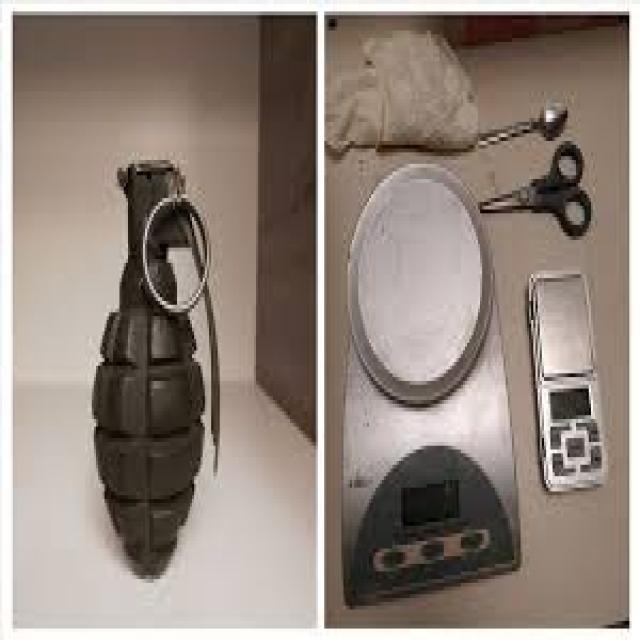grenade: (86, 150, 228, 584)
